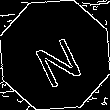N_NW: (26, 24, 84, 86)
